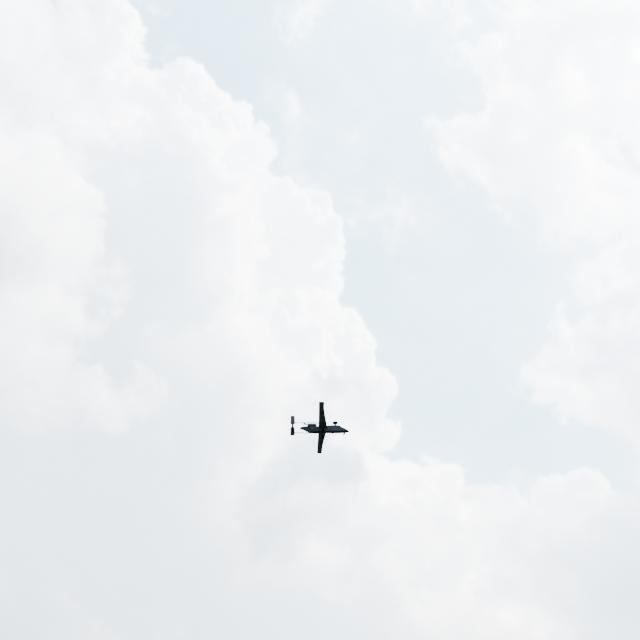Airaplan: (290, 402, 350, 454)
